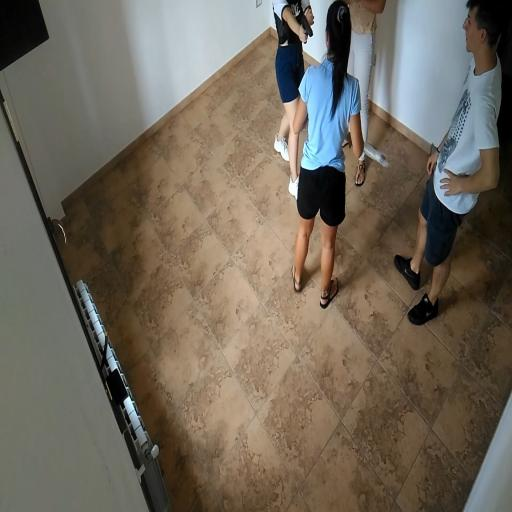violencia: (265, 0, 366, 319)
